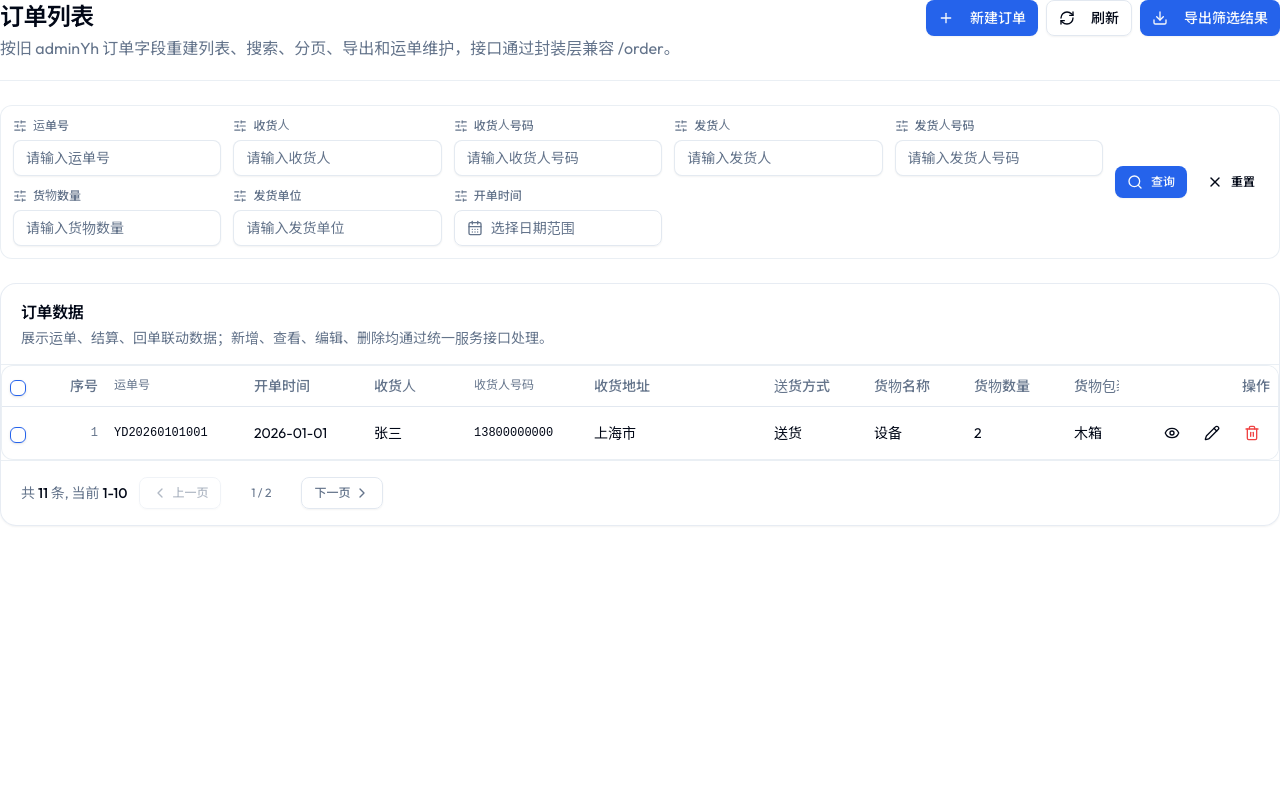
Test case: OrdersList › validates required old order fields before creating
Expected: the text "YD20260101001" is shown, [106, 406, 246, 458]
Click the button "新建订单".
click(982, 18)  # box [926, 0, 1038, 36]
(page scrolled)
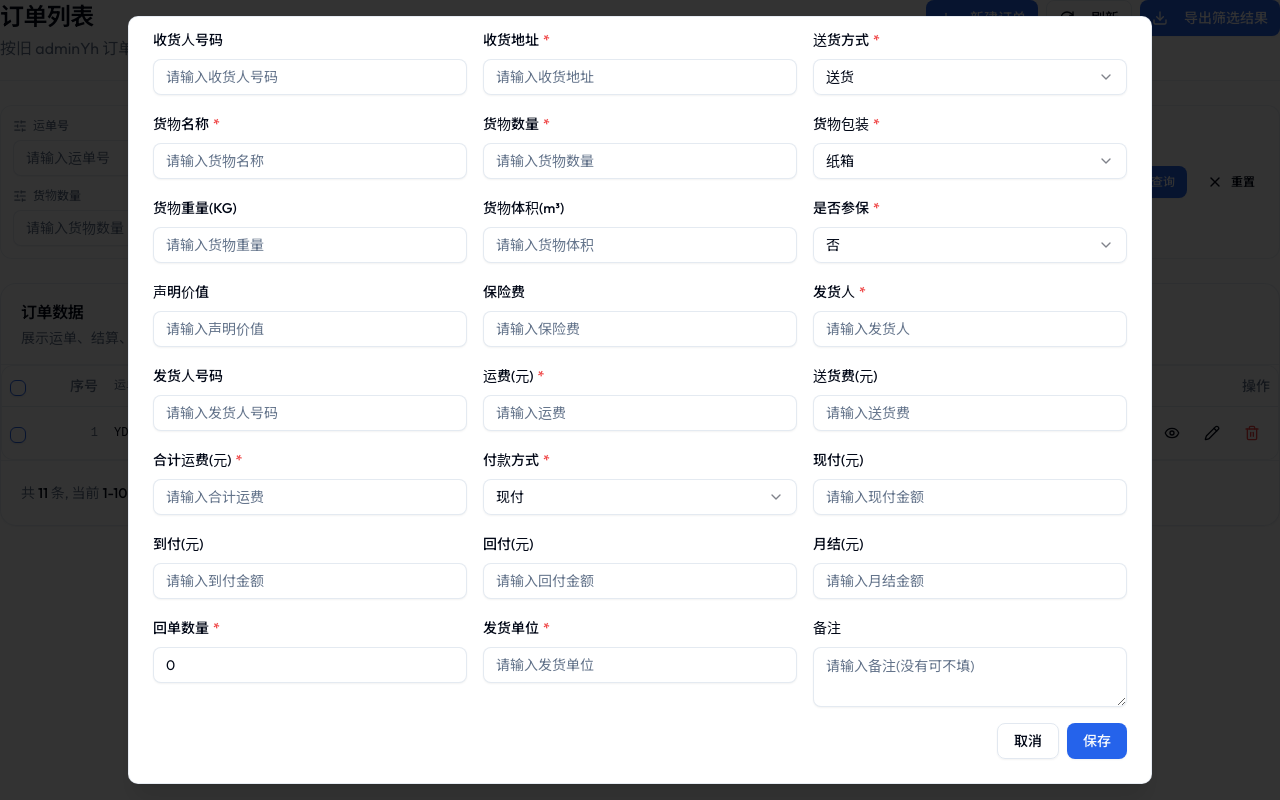
Click the button "保存".
click(1097, 741)  # box [1067, 723, 1127, 759]
(page scrolled)
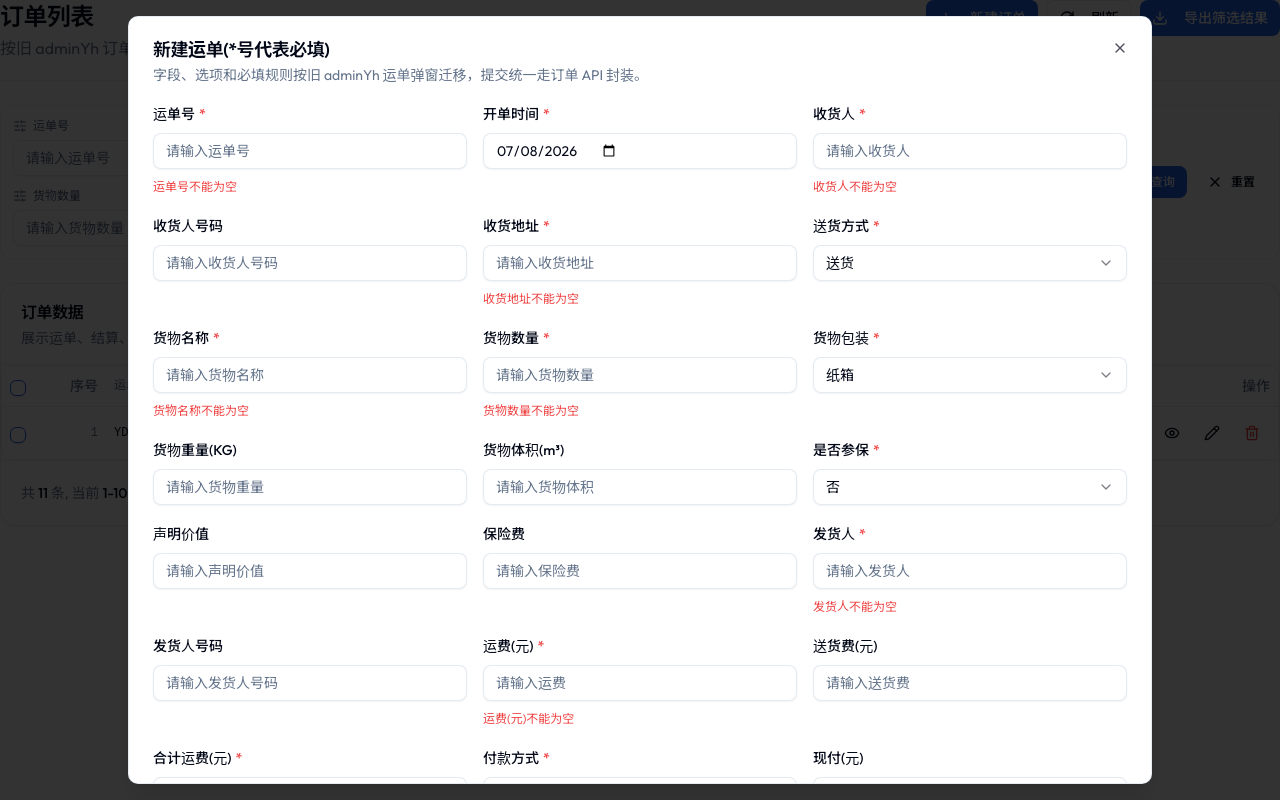
Result: the text "运单号不能为空" is shown at [153, 179, 237, 194]
Result: the text "收货人不能为空" is shown at [813, 179, 897, 194]
